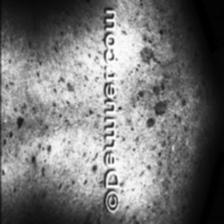Non-Cancerous Skin Condition: (0, 4, 100, 186), (128, 14, 192, 196)
